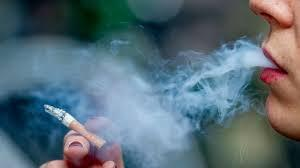smoke: (13, 23, 279, 160)
